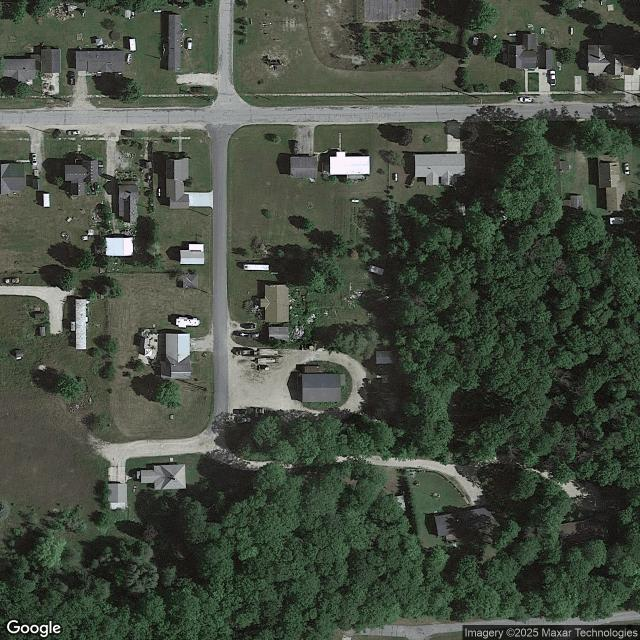Propane: (394, 173, 398, 182), (570, 28, 574, 36), (351, 199, 359, 203), (509, 33, 517, 36), (158, 188, 161, 196), (154, 10, 161, 13)
